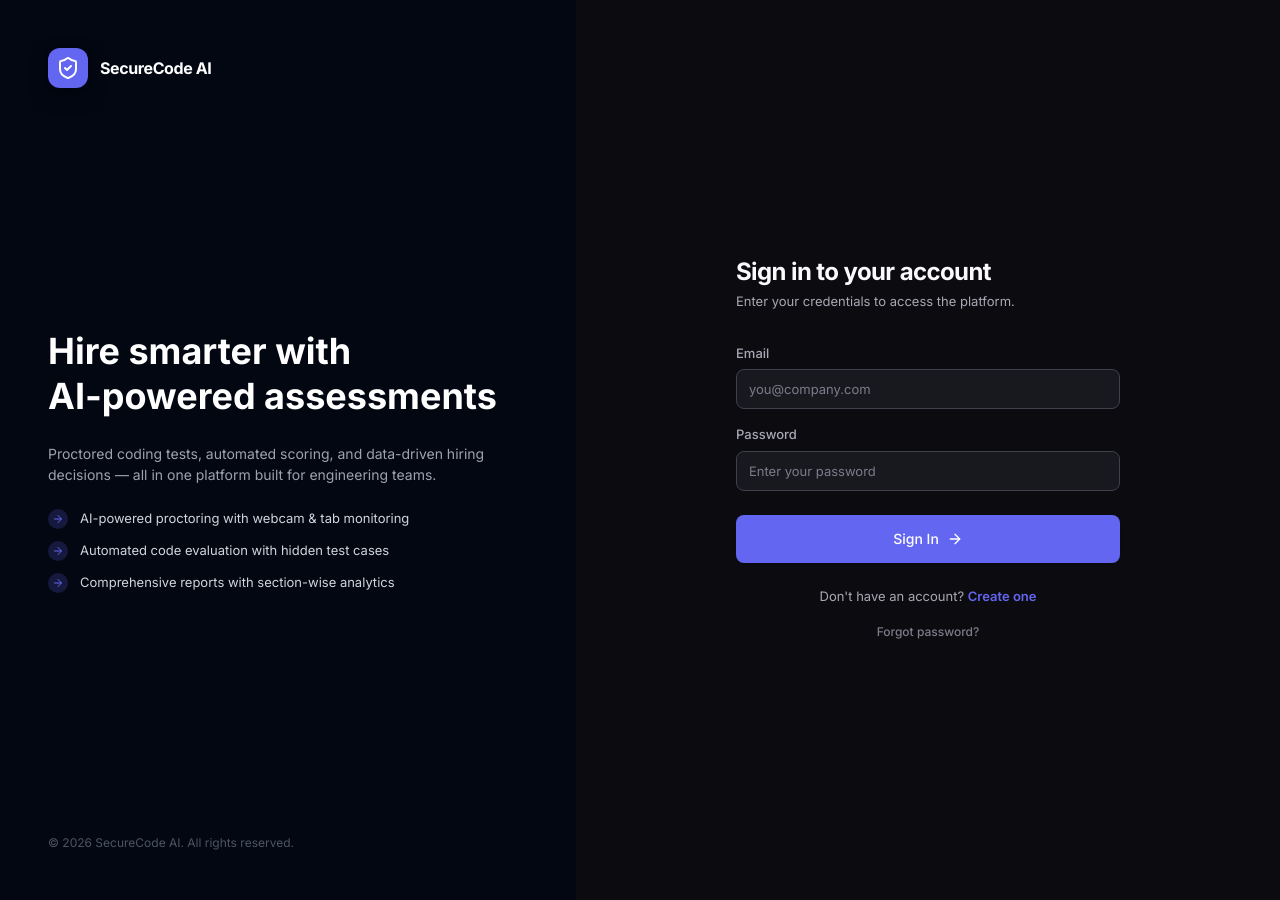
Test: LoginPage › shows error toast on failed login
The width and height of the screenshot is (1280, 900).
Type "bad@test.com" into the field with placeholder "you@company.com" at (928, 389), box [736,369,1120,409]
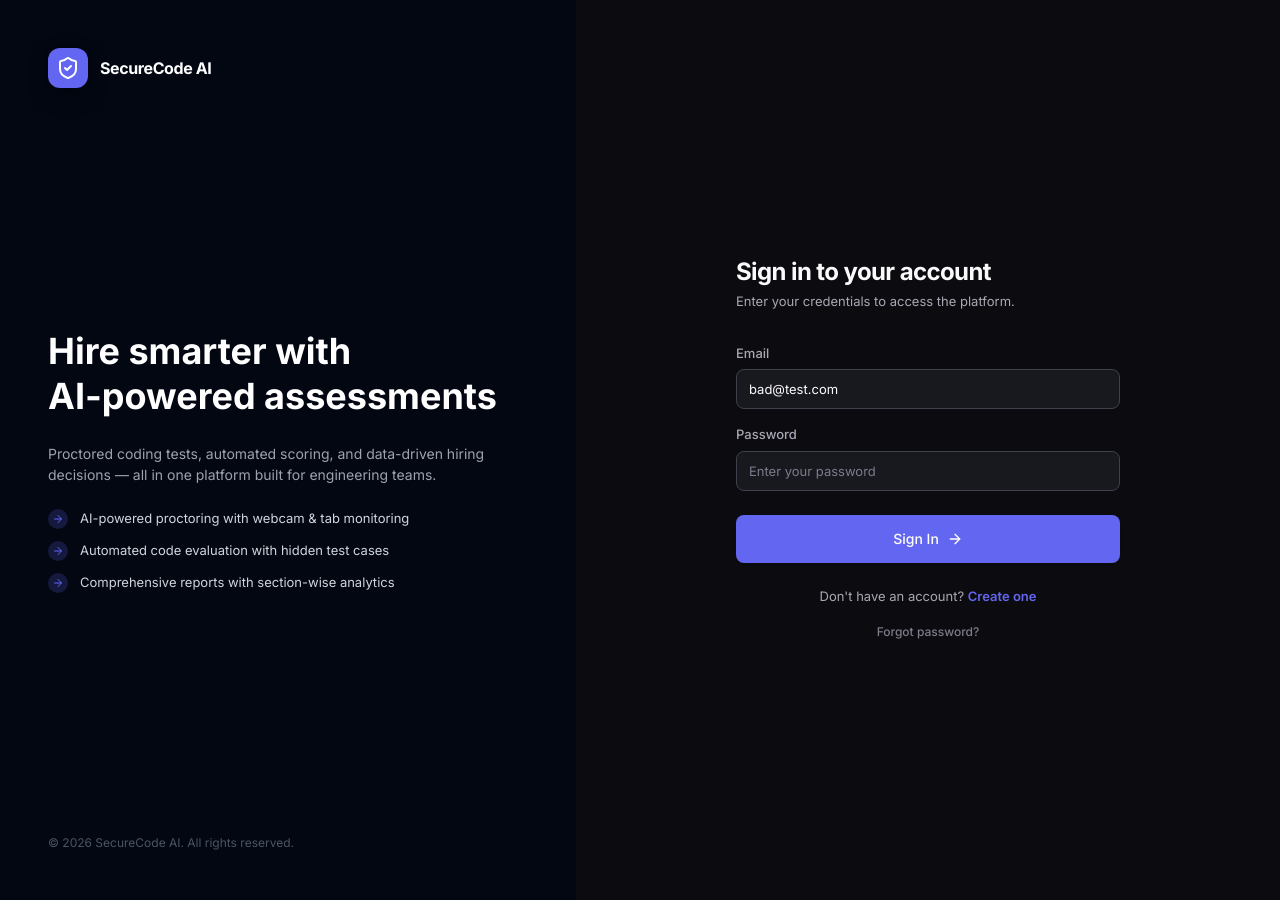
Type "wrong" into the password field with placeholder "Enter your password" at (928, 471), box [736,451,1120,491]
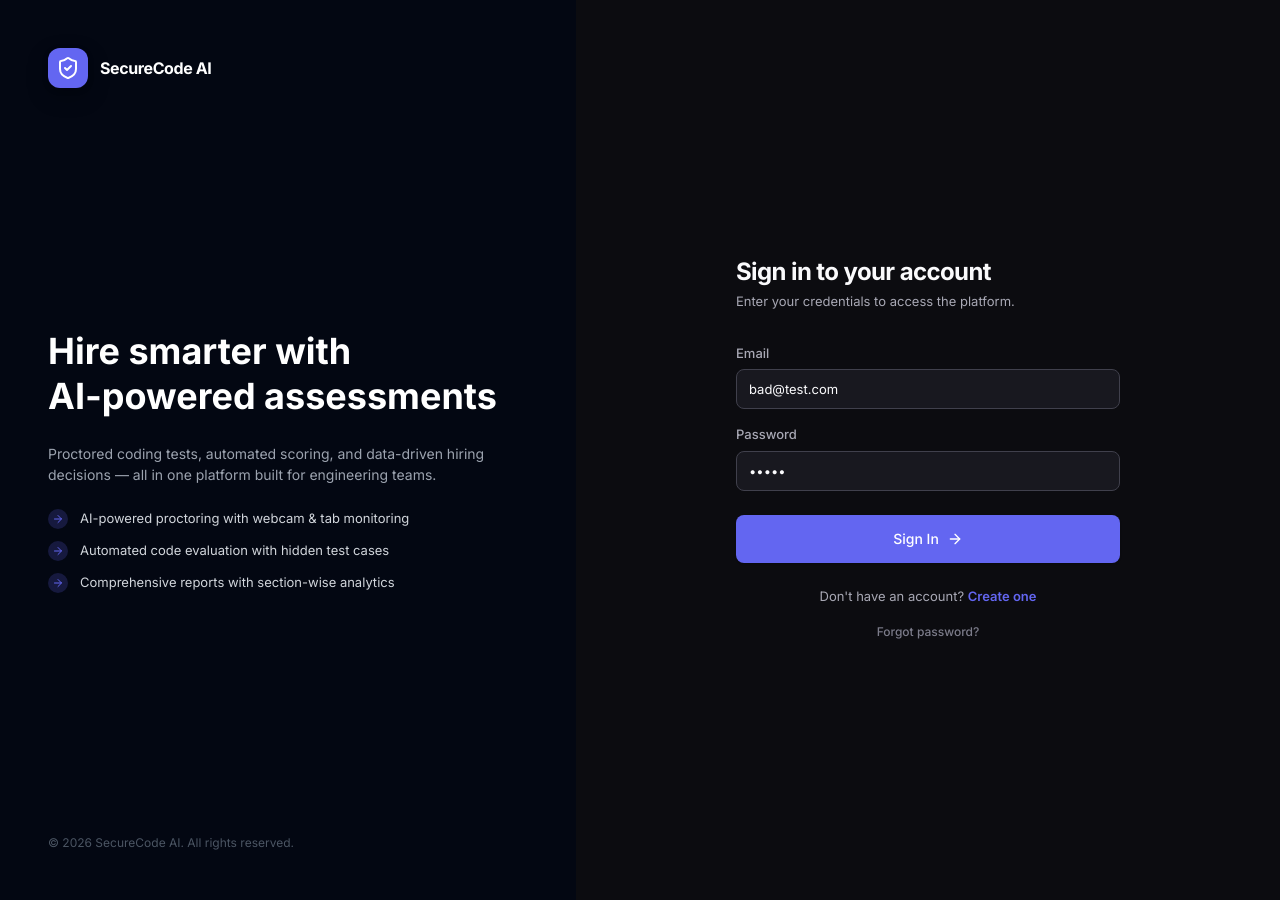
Click the button "Sign In" at (928, 539), box [736,515,1120,563]
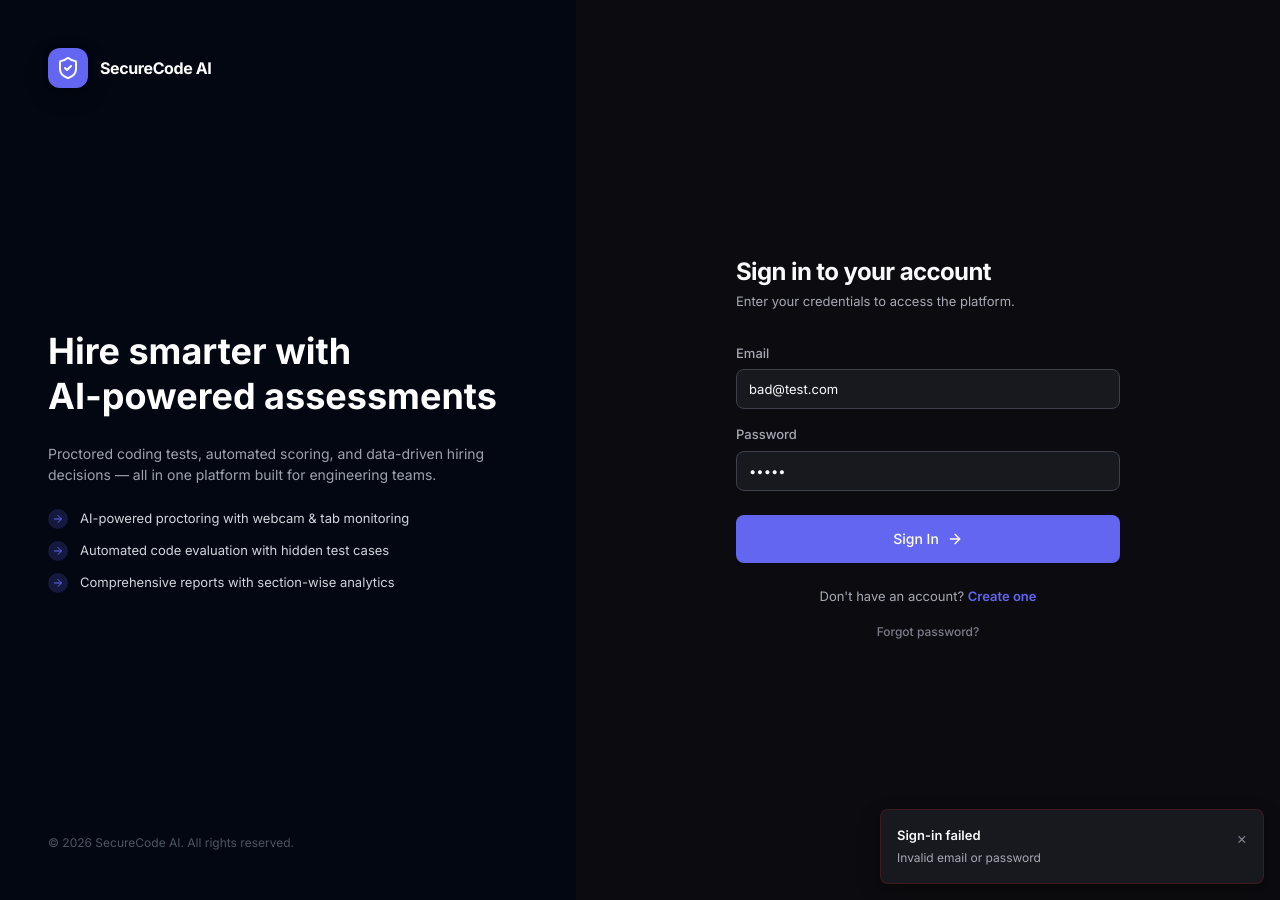
Expected: the text "Invalid email or password" is shown, [897,849,1041,867]
